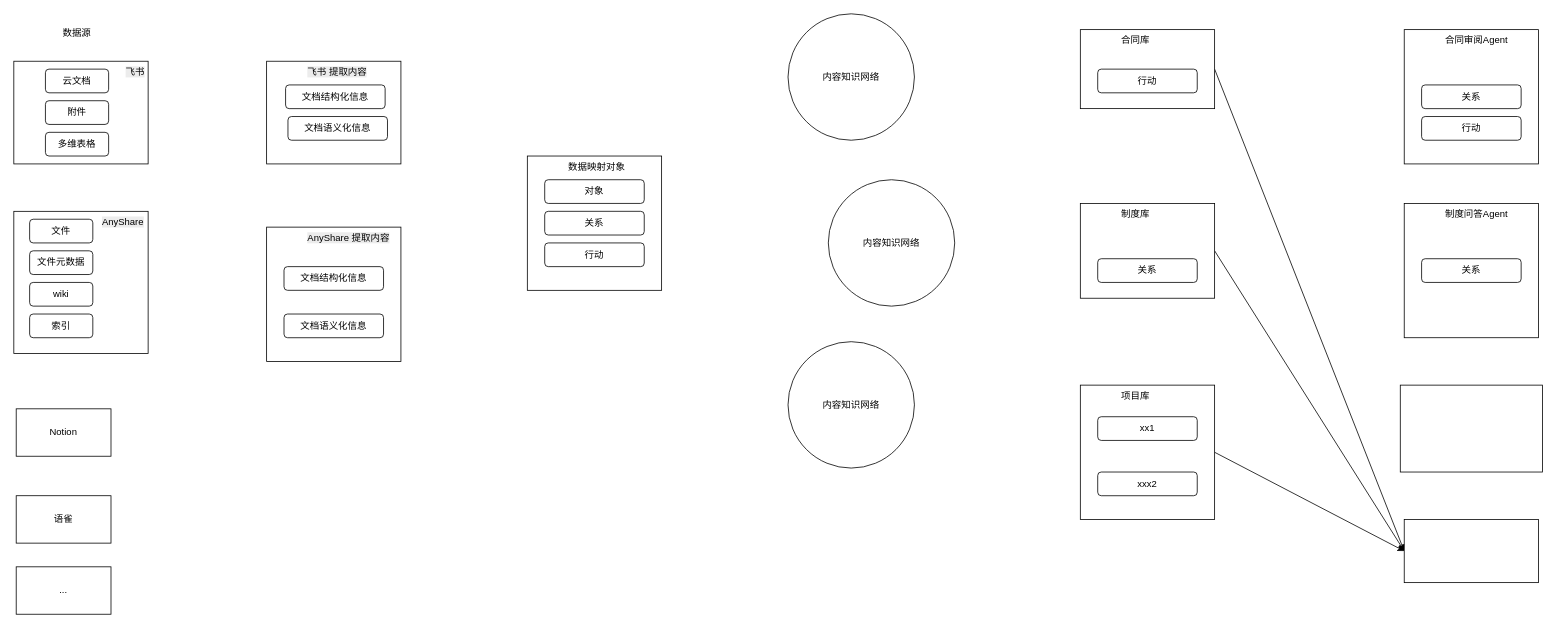
The diagram is 1556 pixels wide and 628 high, and some of its shapes have lost their labels. The centre of each missing label's shape, as x and y in pixels:
招投标Agent: pixel 1471 551
项目管理Agent: pixel 1470 428
